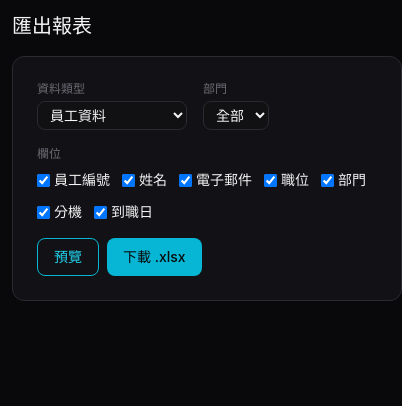
點預覽會呼叫 getExportPreview 並顯示結果表格
Expected: the checkbox labelled "員工編號" is shown, [37,174,50,186]
Click the button "預覽".
click(68, 257)  # box [37,238,99,276]
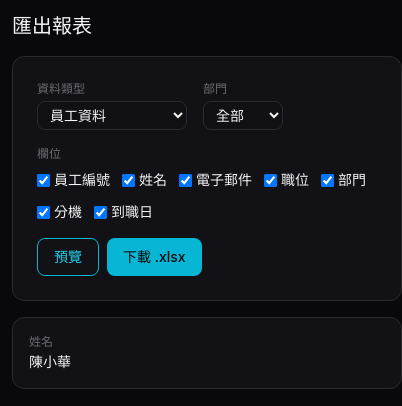
Expected: the text "陳小華" is shown, [29,353,71,370]
